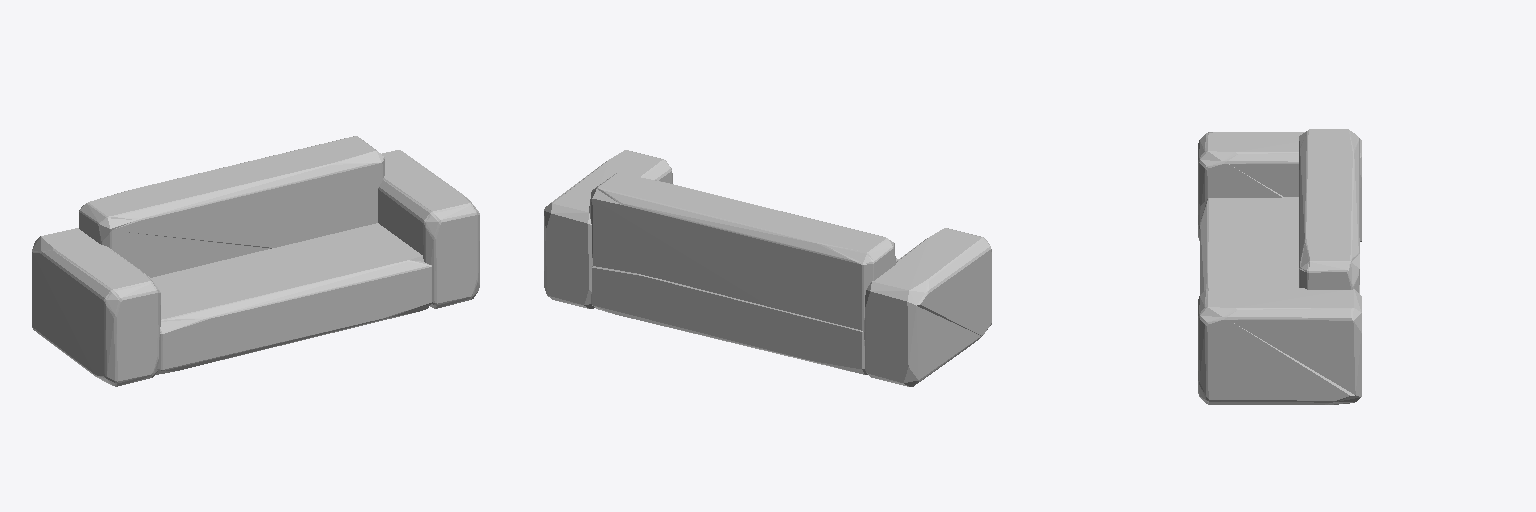
Rendered from sofa.obj.
The picture shows the model from 3 angles: view 1: azimuth 30°, elevation 25°; view 2: azimuth 150°, elevation 25°; view 3: azimuth 270°, elevation 25°; orthographic projection.
Parts seen in each view (by area): view 1: pCube3, pCube4, pCube1, pCube2; view 2: pCube4, pCube1, pCube3, pCube2; view 3: pCube2, pCube4, pCube3, pCube1.
Boxes of the visible parts, <box> form: pCube3: <box>151,223,431,374</box>; pCube4: <box>79,136,384,277</box>; pCube1: <box>32,228,160,386</box>; pCube2: <box>378,150,479,308</box>; pCube4: <box>589,173,895,345</box>; pCube1: <box>864,228,991,386</box>; pCube3: <box>591,258,898,374</box>; pCube2: <box>544,150,672,308</box>; pCube2: <box>1198,288,1361,404</box>; pCube4: <box>1299,129,1359,292</box>; pCube3: <box>1200,197,1359,294</box>; pCube1: <box>1198,132,1361,241</box>.
Bounding box in the file's own units: 4.03 × 1.26 × 1.52.